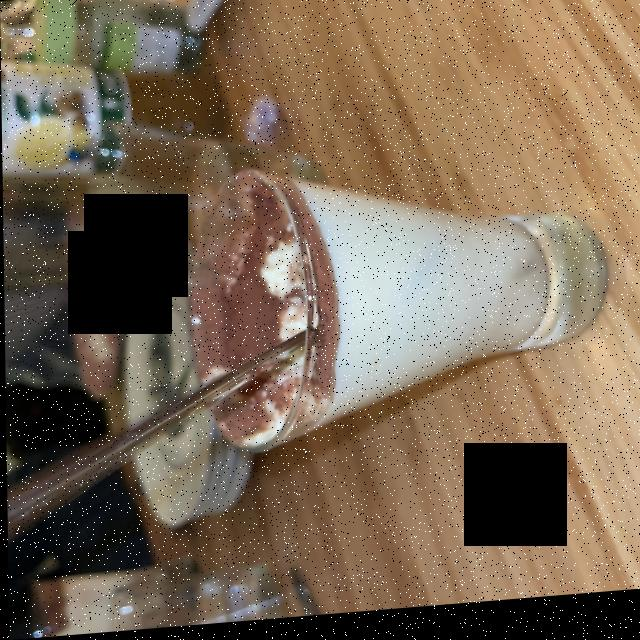tiramisu: (242, 186, 578, 428)
